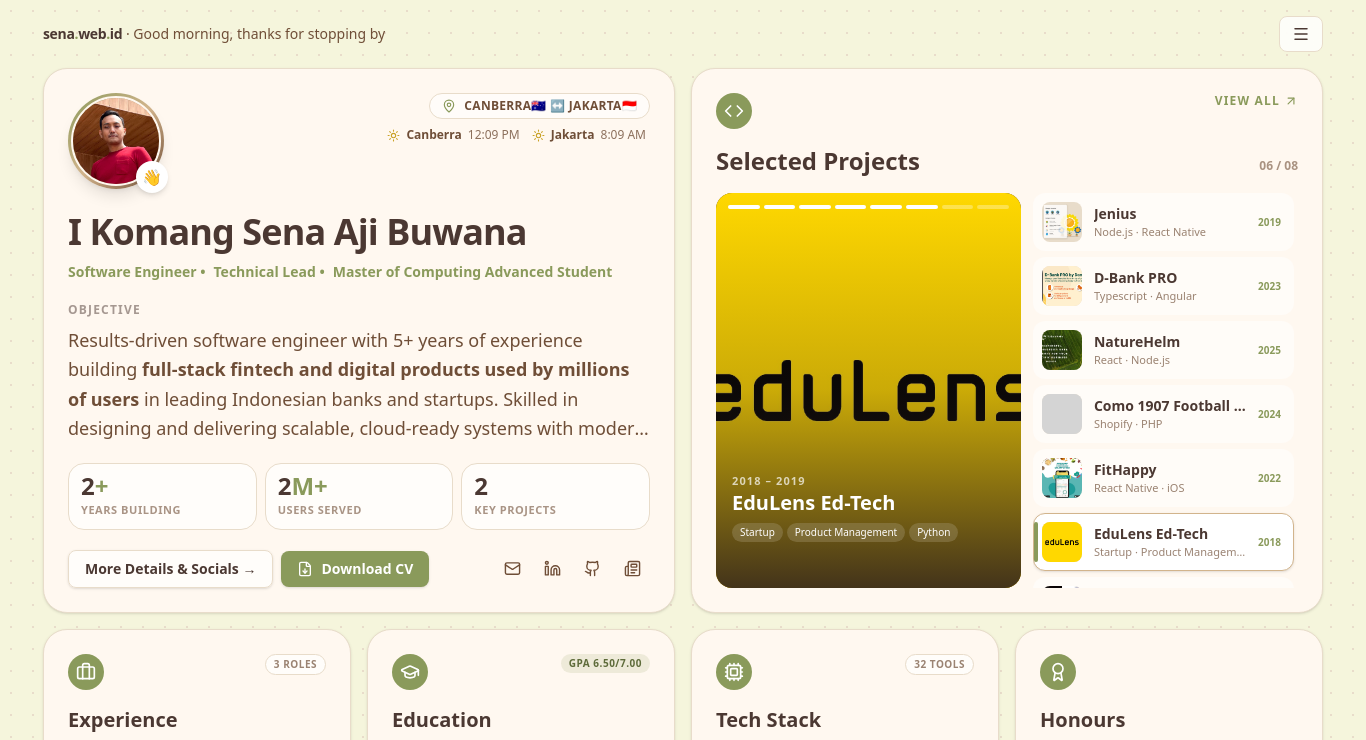
Scenario: App (Portfolio) › displays social links in about modal
The width and height of the screenshot is (1366, 740).
Click the text "More Details & Socials →" at (359,568), box [68, 550, 650, 588]
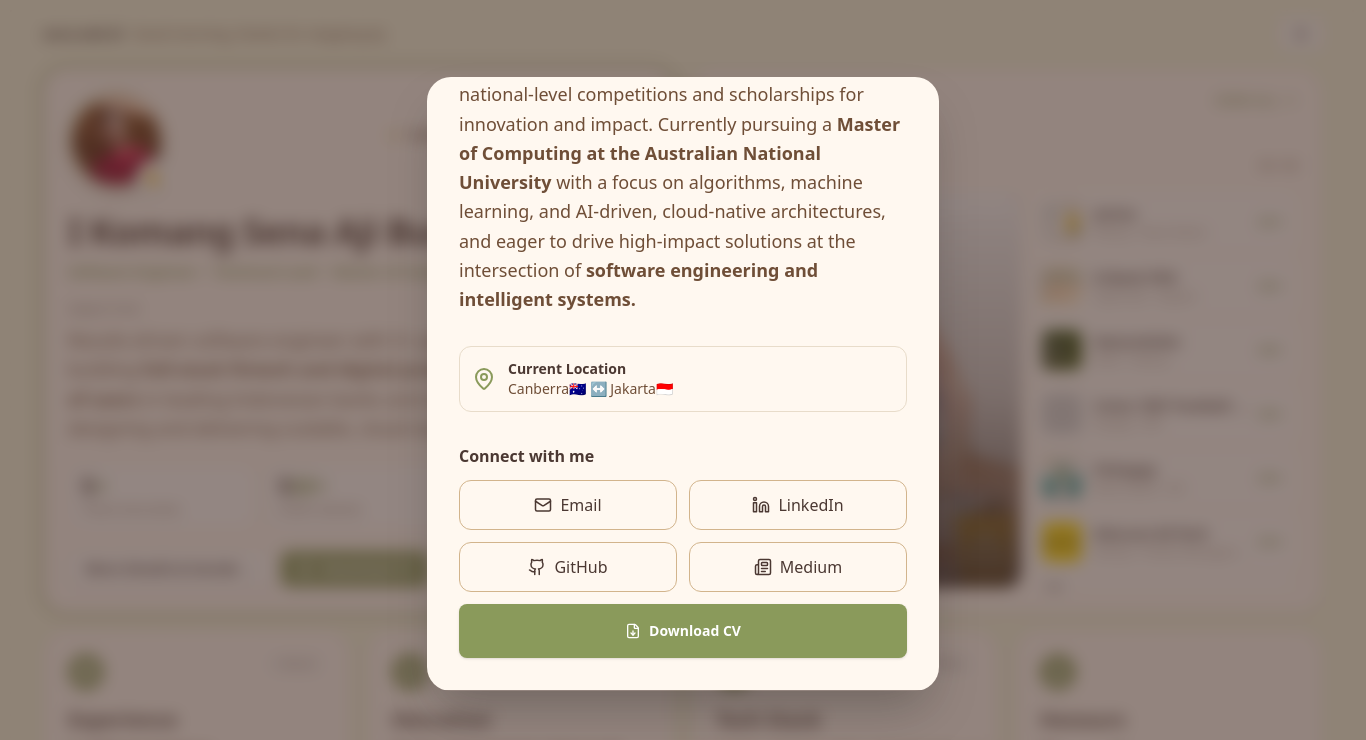
Expected: the heading "Connect with me" is shown, [459, 445, 594, 467]
